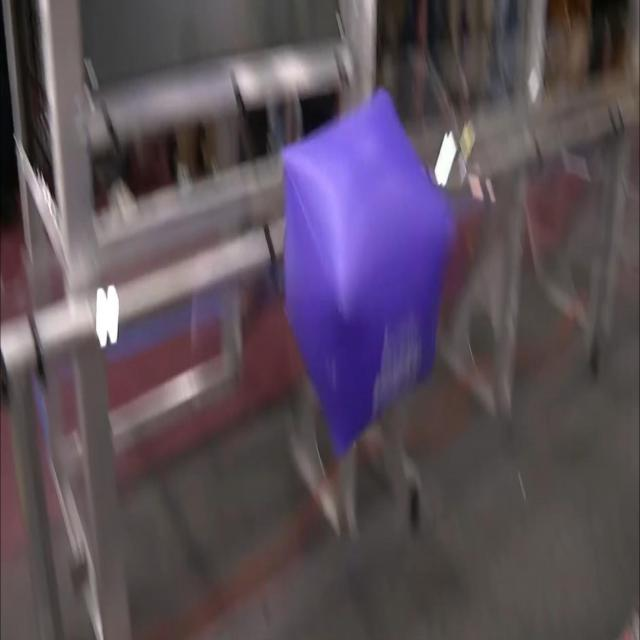frc_cube: (283, 89, 451, 450)
